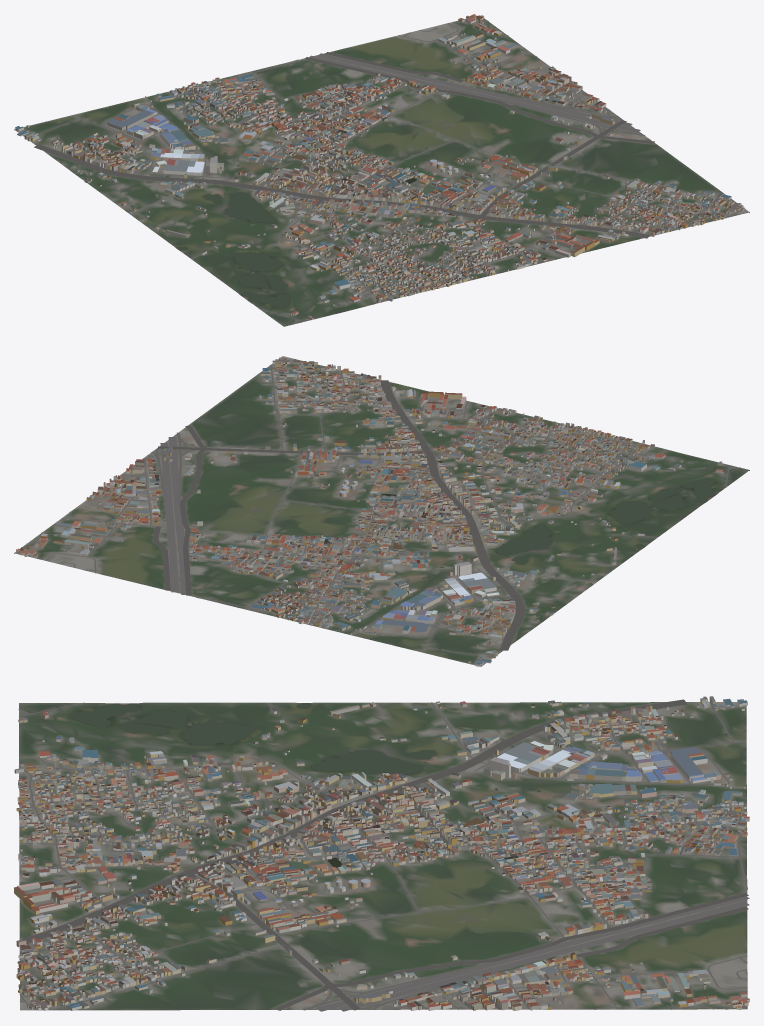
3 views of the same model, one above another, from view 1: azimuth 30°, elevation 25°; view 2: azimuth 150°, elevation 25°; view 3: azimuth 270°, elevation 25° (orthographic). The views are drawn at different scales.
Visible parts, largest first — view 1: ground, buildings, roads, water; view 2: ground, buildings, roads, water; view 3: ground, buildings, roads, water.
Part boxes in pixels (x1,y1,x2,y2): ground: (14,15,749,326); buildings: (15,14,744,319); roads: (34,19,740,324); water: (176,152,435,309); ground: (14,356,749,666); buildings: (16,357,723,666); roads: (18,359,740,654); water: (381,478,714,578); ground: (19,702,747,1010); buildings: (14,696,749,1010); roads: (16,699,749,1011); water: (68,703,540,869).
Bounding box in the file's own units: 1423 × 32.46 × 1418.
